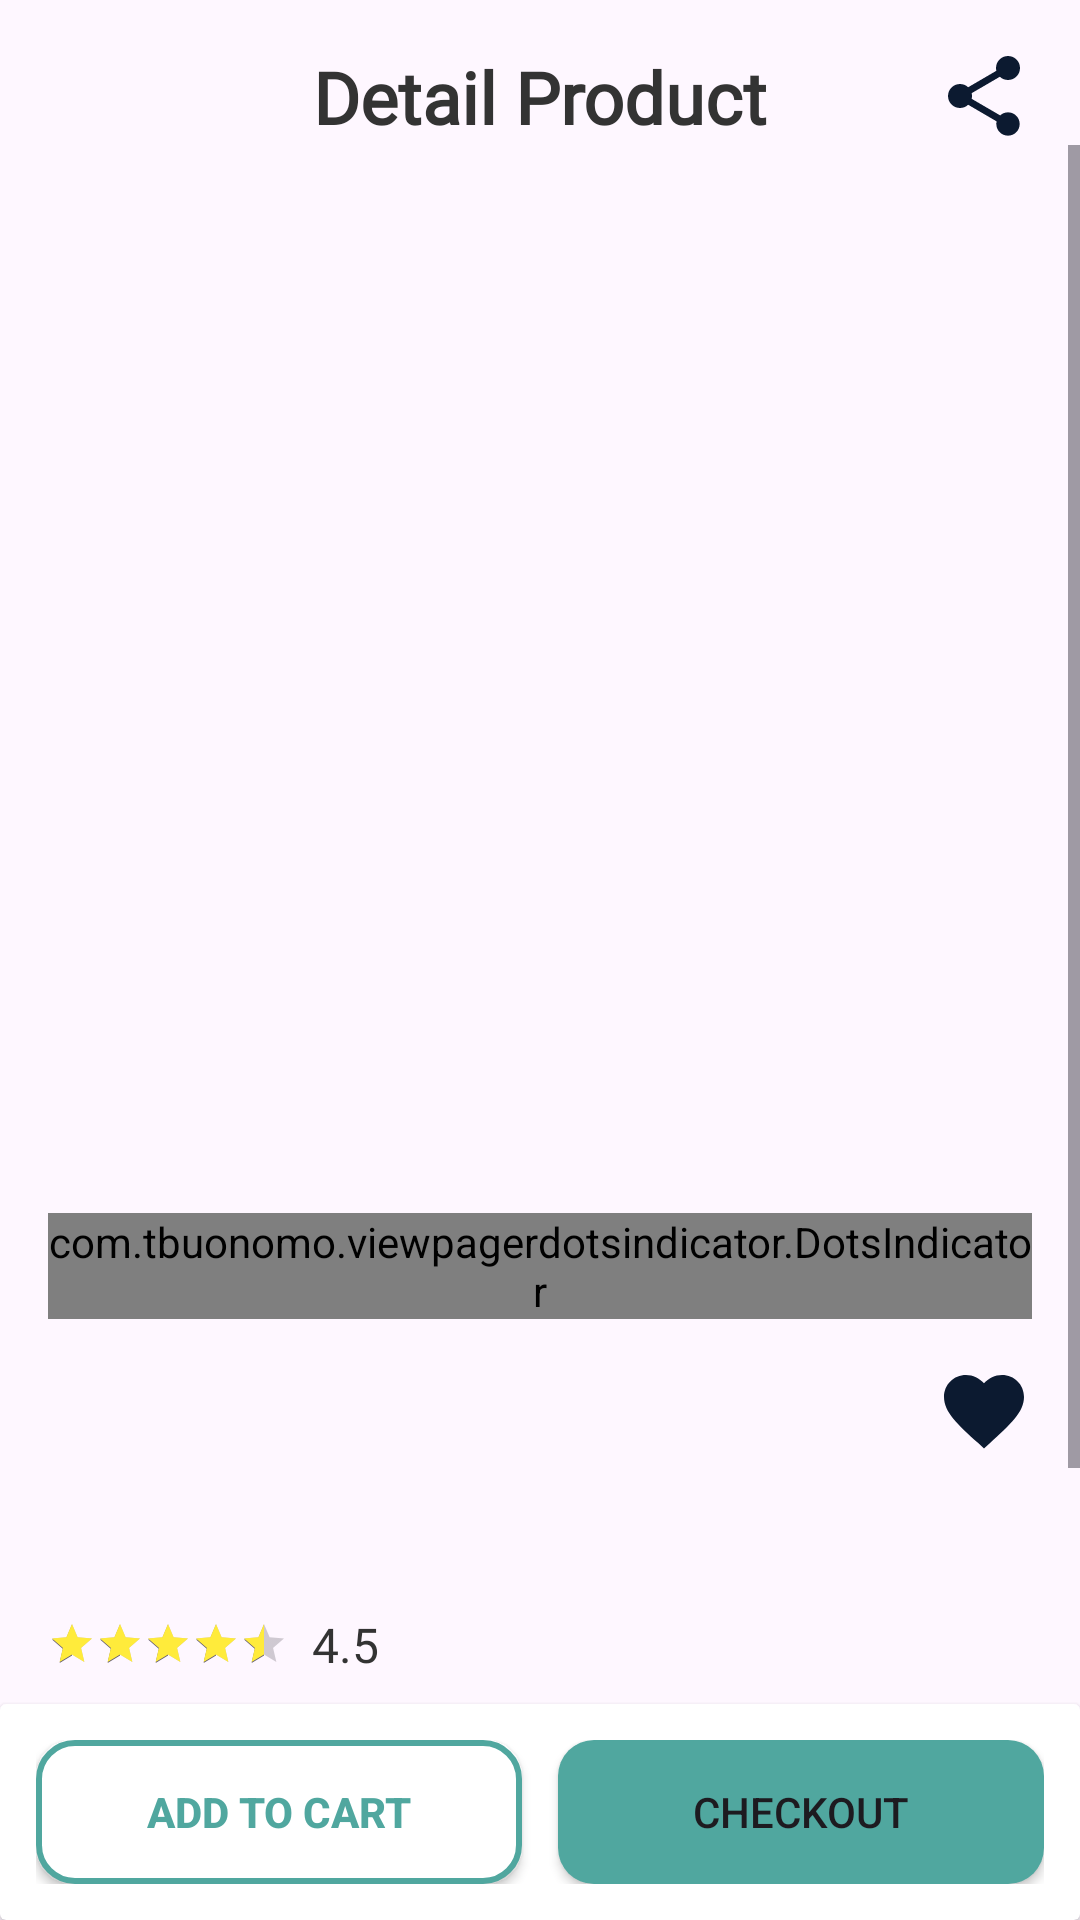

Locate icon controls on the screen. Image size 1080x1920, boxes as bbox(x1, y1, x2, y2).
button share: bbox(948, 56, 1020, 136)
favorite button: bbox(944, 1375, 1024, 1449)
